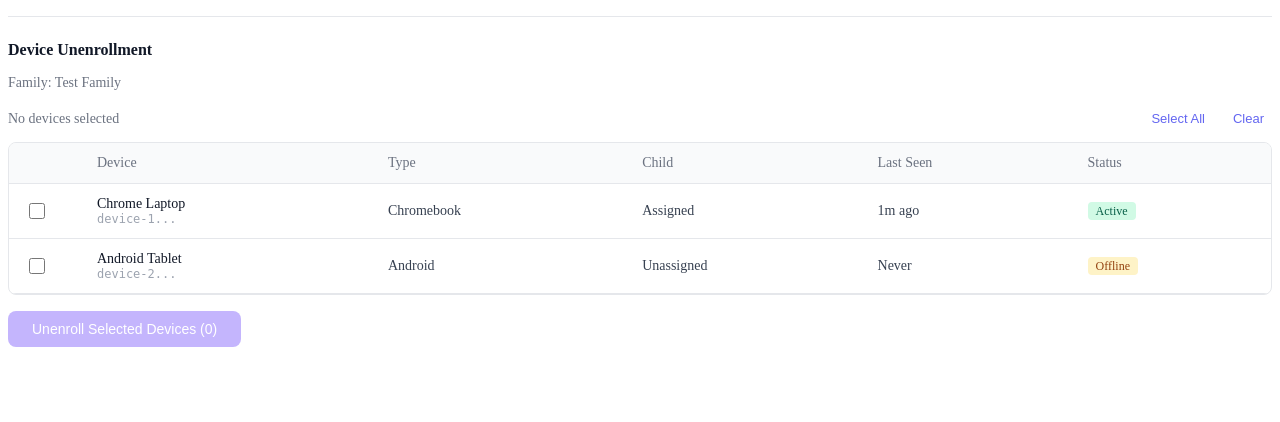
Scenario: SafetyDeviceUnenrollSection › unenroll button › shows confirmation when button is clicked
Click the checkbox named "Select Chrome Laptop" at (37, 210), box [29,202,45,218]
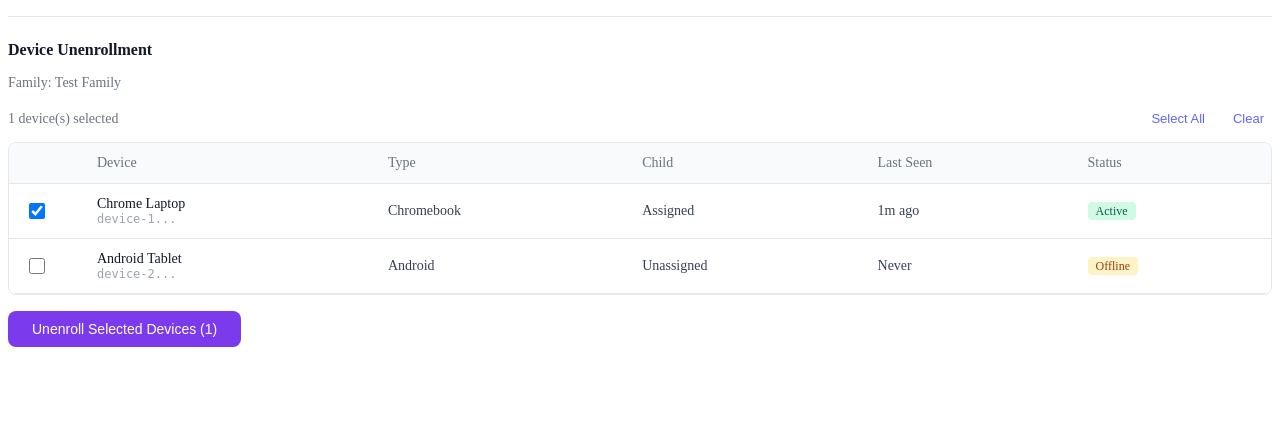
Click the button "Unenroll Selected Devices (1)" at (125, 329), box [8,311,241,347]
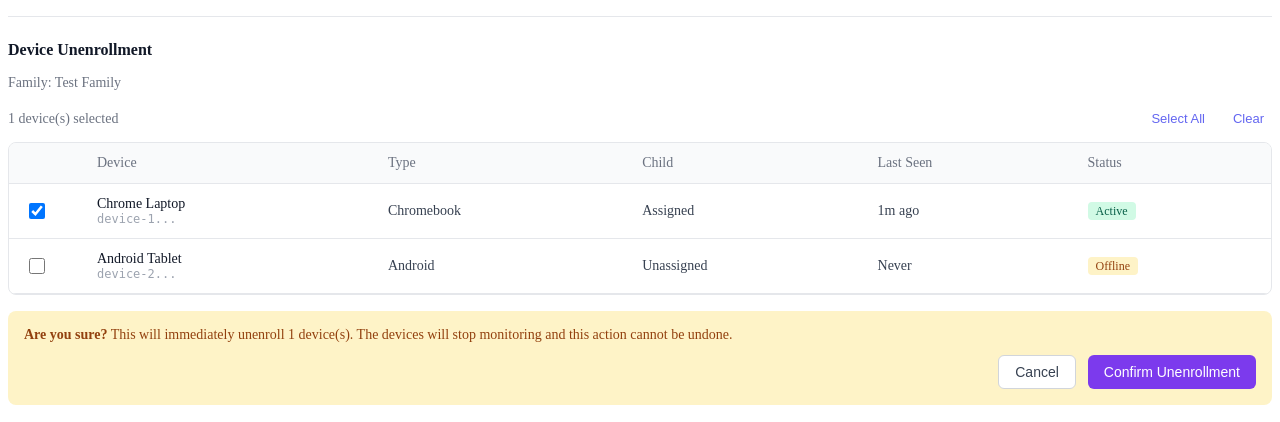
Expected: the text "Are you sure?" is shown, [24,327,108,342]
